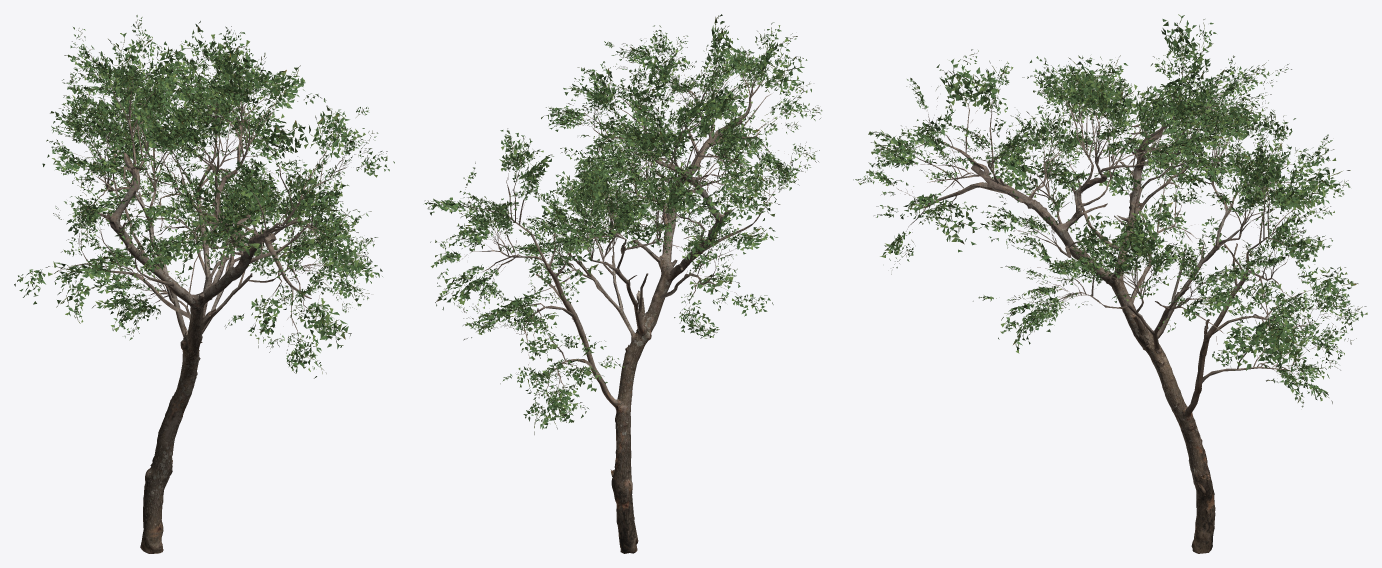
Rendered from tree_small_02.glb.
3 renders of one model, left to right at view 1: azimuth 30°, elevation 25°; view 2: azimuth 150°, elevation 25°; view 3: azimuth 270°, elevation 25°, orthographic. The views are drawn at different scales.
Visible parts, largest first — view 1: tree_small_02; view 2: tree_small_02; view 3: tree_small_02.
Part boxes in pixels (box(x1,y1,x2,y2)): tree_small_02: box(14, 15, 394, 553); tree_small_02: box(424, 14, 822, 553); tree_small_02: box(853, 14, 1367, 553).
Bounding box in the file's own units: 2.92 × 4.56 × 4.29.
3 materials, 3 textured.
